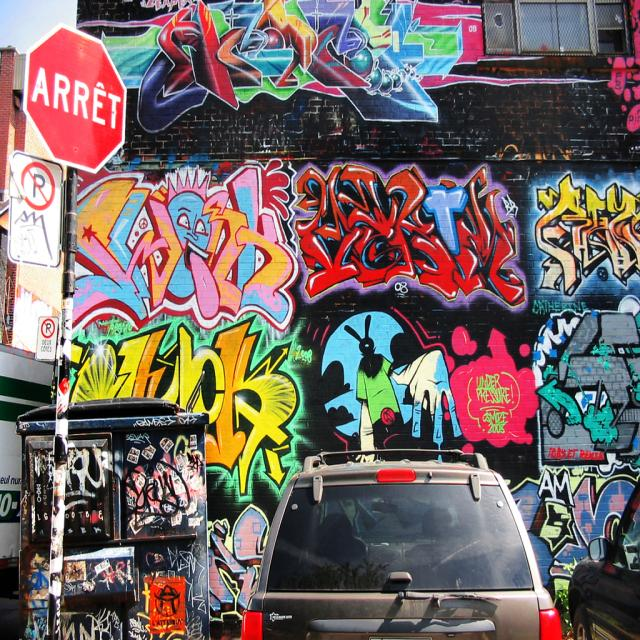Stop-sign: (21, 22, 128, 174)
